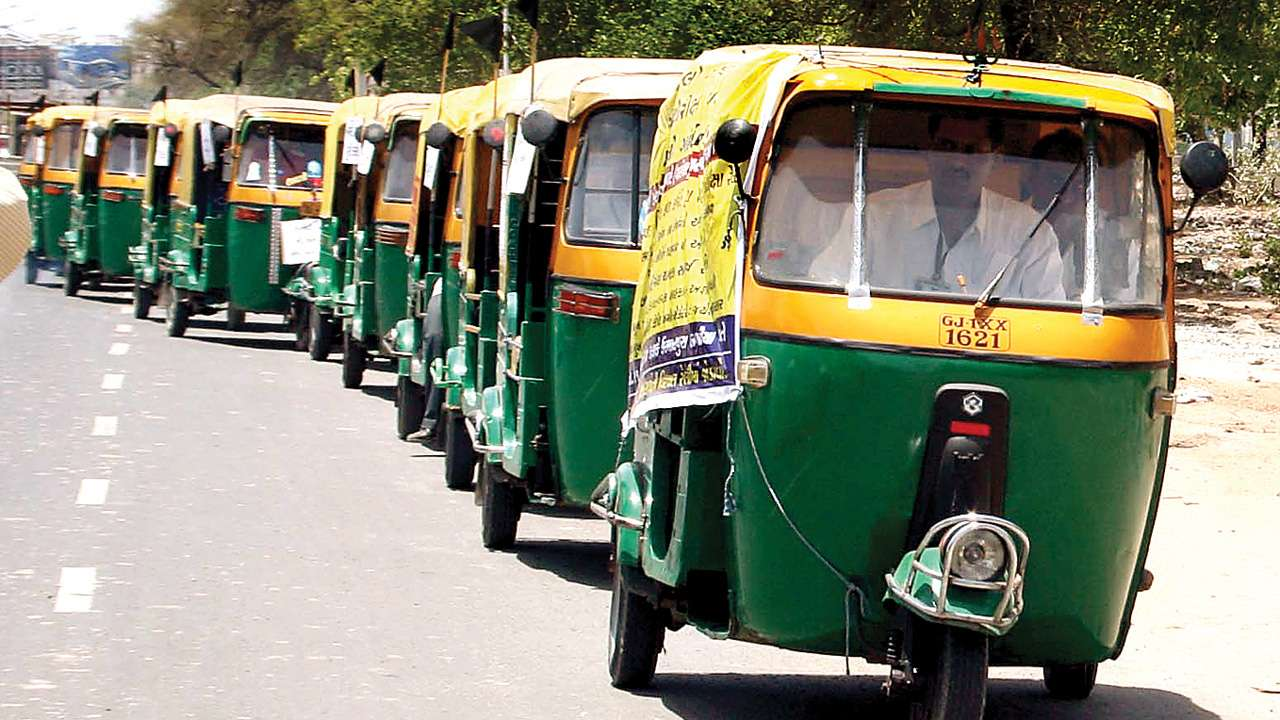rickshaw: (628, 42, 1232, 720), (480, 44, 646, 599), (177, 97, 310, 331), (344, 101, 416, 387), (69, 109, 142, 289), (22, 109, 76, 292)
